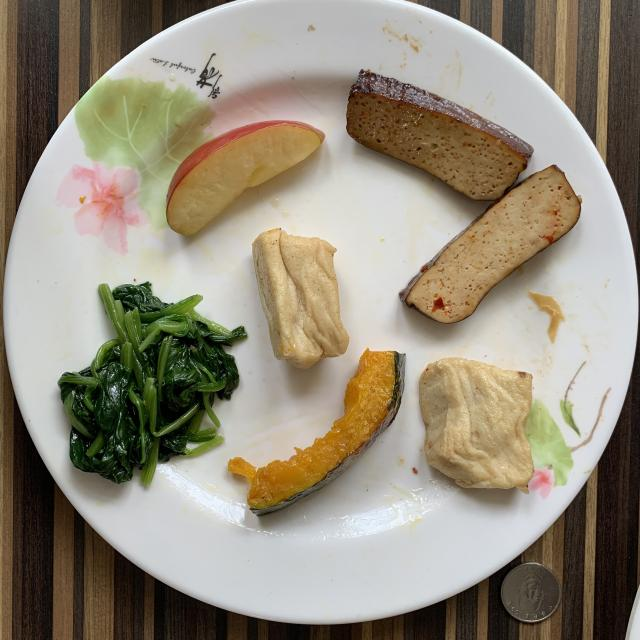apple -sliced-: (166, 121, 325, 235)
coin: (501, 562, 561, 622)
creamy tofu -without sauce-: (419, 358, 534, 492), (252, 229, 349, 368)
firm tofu: (346, 71, 581, 322)
mustard greens: (58, 282, 246, 482)
pumpkin: (228, 350, 405, 515)
